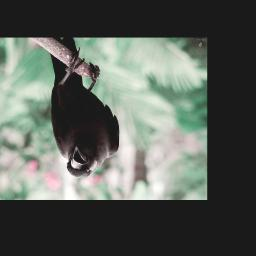Crow: (49, 39, 120, 179)
